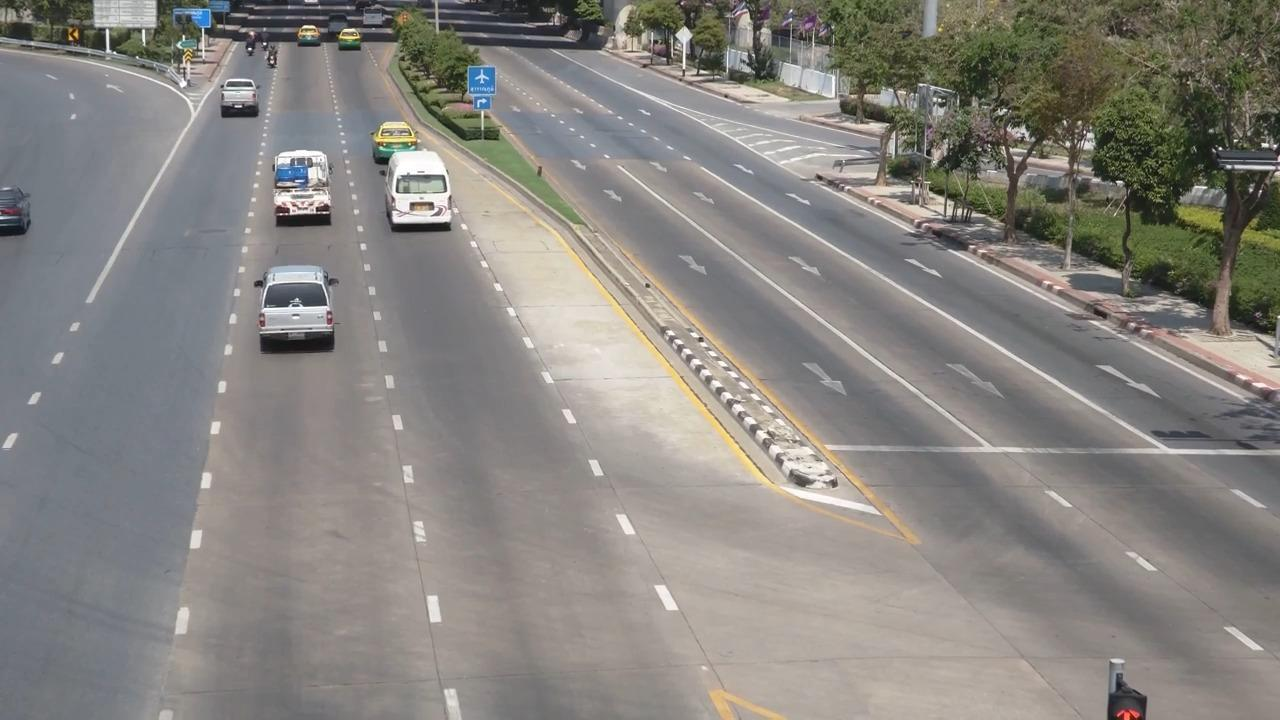CAR: (251, 256, 346, 366), (381, 151, 470, 242), (260, 142, 346, 235), (210, 77, 268, 135), (371, 117, 425, 163), (281, 18, 330, 63), (356, 1, 398, 42), (332, 26, 369, 62)
MOTOR: (235, 24, 264, 65), (255, 43, 288, 79)
